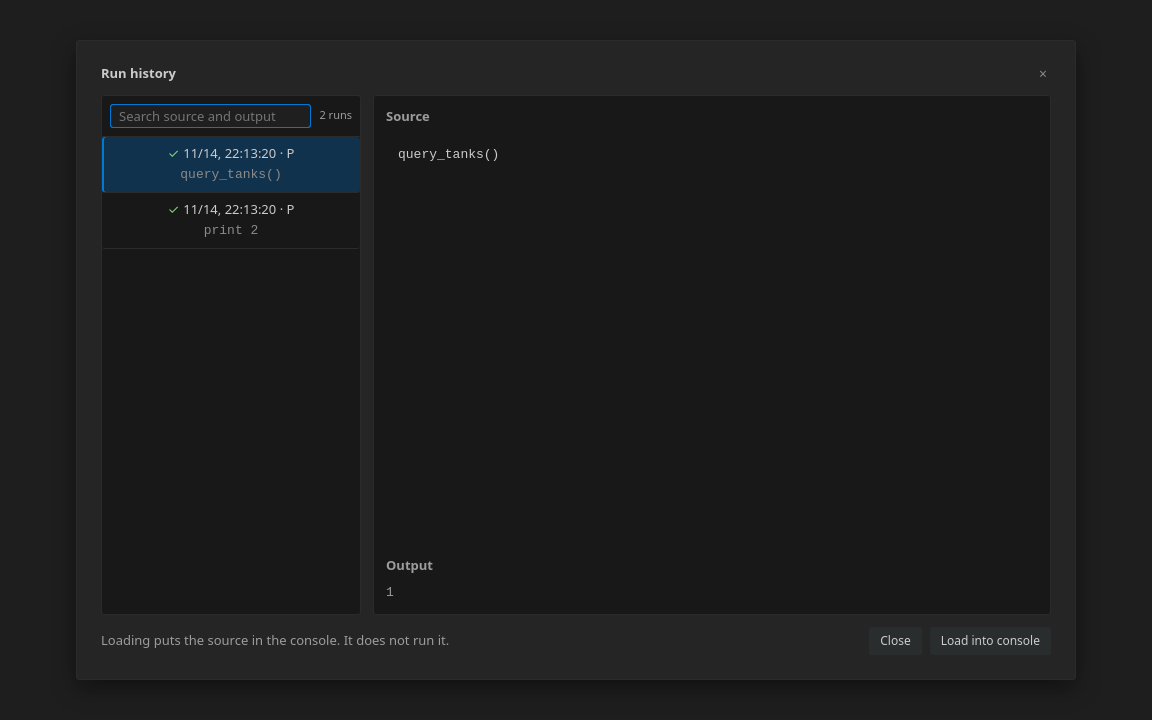
Test: RunHistoryDialog › filters the list and says how many of how many are left
This screenshot has width=1152, height=720.
Expected: the text "query_tanks()" below "2 runs" is shown, [180,167,282,182]
In the search field named "Search the run history": (211, 116) [110,104,311,128], type "tanks"
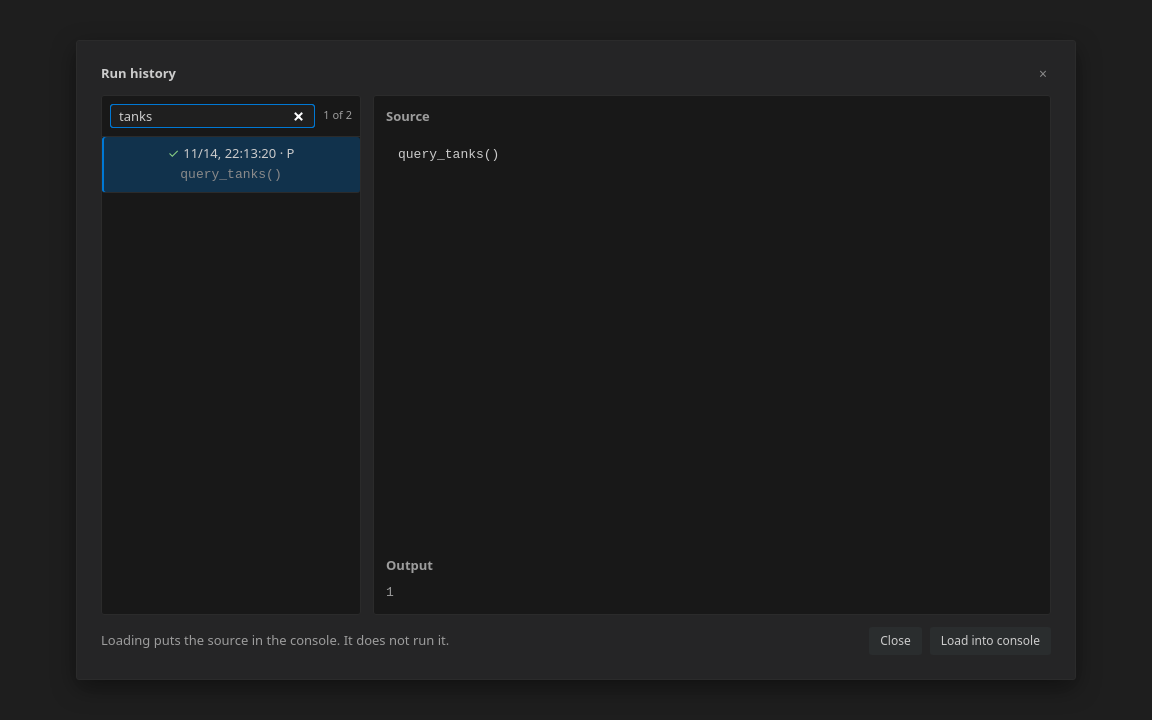
Now the button "print 2" is gone
Now the text "1 of 2" is shown, box [323,108,352,123]
